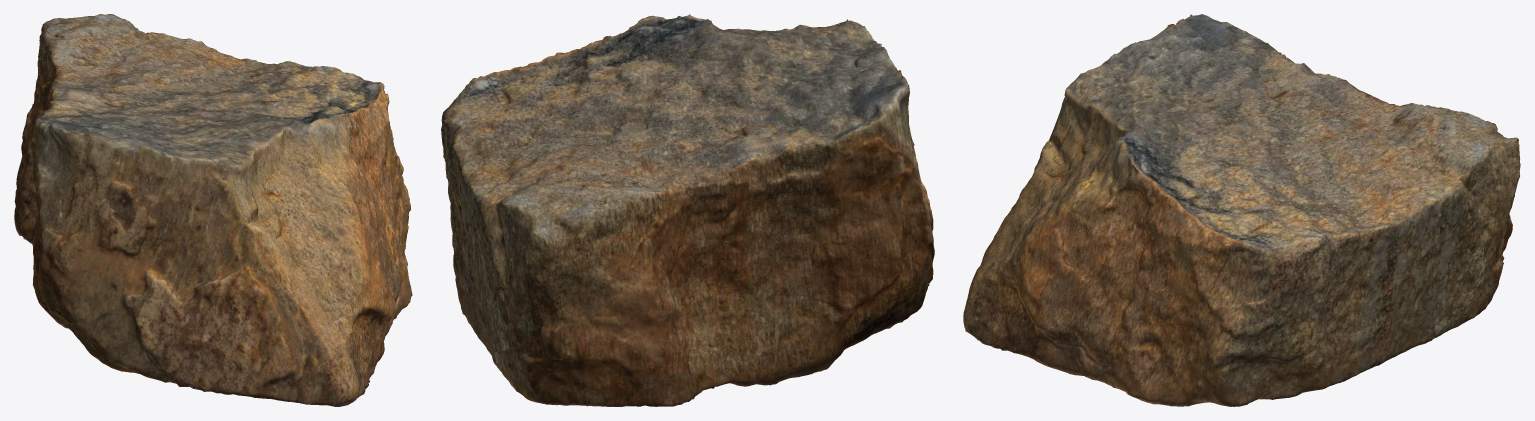
Rendered from boulder_medium_b.glb.
3 views of the same model, side by side, from view 1: azimuth 30°, elevation 25°; view 2: azimuth 150°, elevation 25°; view 3: azimuth 270°, elevation 25° (orthographic). The views are drawn at different scales.
Parts seen in each view (by area): view 1: boulder_03_LOD0; view 2: boulder_03_LOD0; view 3: boulder_03_LOD0.
Boxes of the visible parts, bbox=[...] form: boulder_03_LOD0: bbox=[14, 14, 412, 406]; boulder_03_LOD0: bbox=[441, 14, 934, 406]; boulder_03_LOD0: bbox=[963, 14, 1520, 406].
Size of the model in its own units: 2.41 by 1.47 by 3.07.
1 material, 1 textured.
